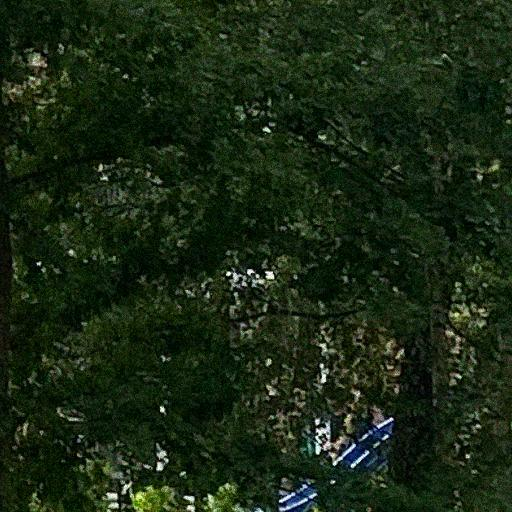tree: (1, 1, 512, 512), (1, 1, 344, 511)
